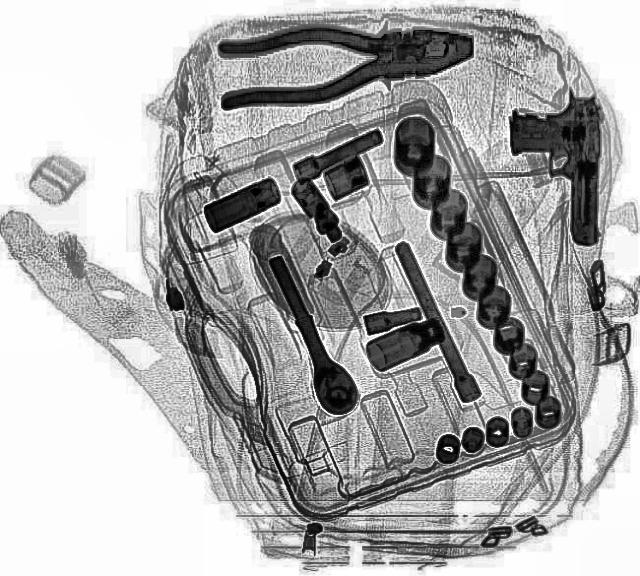Gun: (508, 87, 604, 245)
Pliers: (210, 13, 478, 111)
